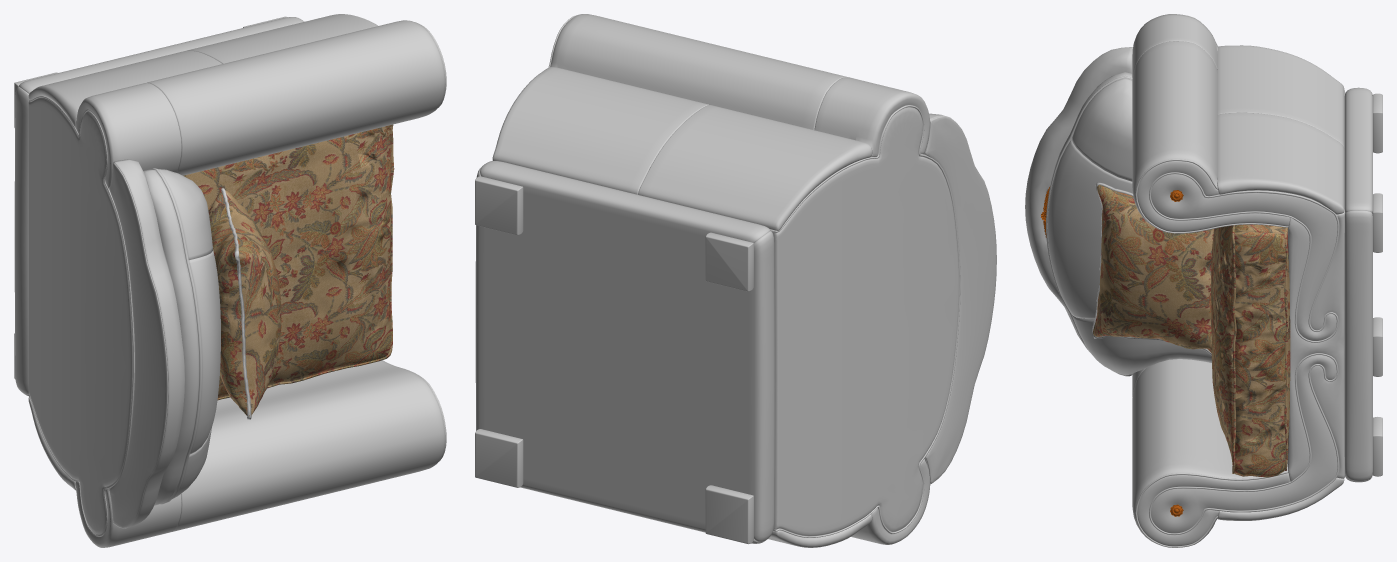
Rendered from LETTO Classic - Soft Set_Armchair N170326.obj.
The picture shows the model from 3 angles, left to right: view 1: azimuth 30°, elevation 25°; view 2: azimuth 150°, elevation 25°; view 3: azimuth 270°, elevation 25°; orthographic projection. The views are drawn at different scales.
Parts seen in each view (by area): view 1: Box026, Box018, Box028, Box037; view 2: Box026, Box024, Box022, Box023, Box021; view 3: Box026, Box018, Box028, Box022, Box023, Box021, Box024, Box037.
Boxes of the visible parts, left/top/right/bottom form: Box026: left=14, top=14, right=446, bottom=547; Box018: left=183, top=124, right=394, bottom=400; Box028: left=208, top=190, right=281, bottom=416; Box037: left=221, top=188, right=251, bottom=419; Box026: left=475, top=14, right=996, bottom=547; Box024: left=705, top=485, right=753, bottom=544; Box022: left=475, top=176, right=523, bottom=235; Box023: left=705, top=232, right=753, bottom=291; Box021: left=475, top=429, right=523, bottom=487; Box026: left=1025, top=14, right=1372, bottom=547; Box018: left=1211, top=224, right=1290, bottom=477; Box028: left=1093, top=185, right=1213, bottom=352; Box022: left=1372, top=193, right=1382, bottom=252; Box023: left=1372, top=93, right=1382, bottom=153; Box021: left=1372, top=417, right=1382, bottom=476; Box024: left=1373, top=317, right=1382, bottom=376; Box037: left=1092, top=182, right=1211, bottom=355.
Bounding box in the file's own units: 941 × 1146 × 942.
